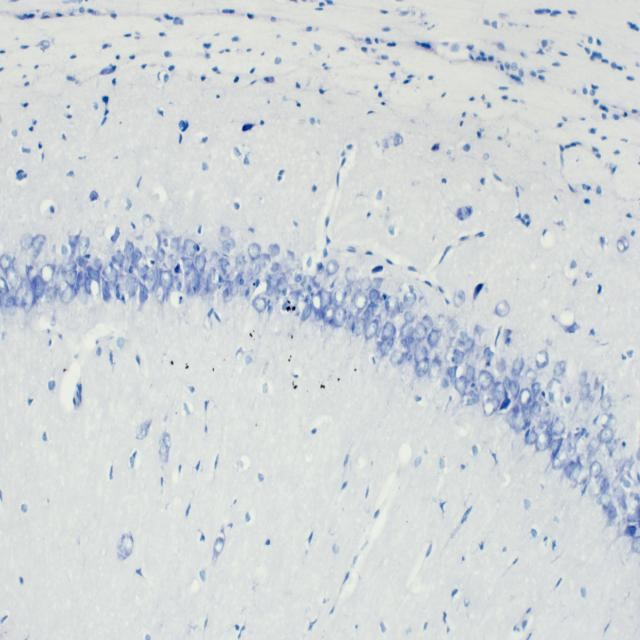neuron: (483, 389, 500, 417), (461, 386, 480, 407), (535, 430, 553, 451), (300, 275, 319, 294), (115, 274, 130, 296), (428, 357, 441, 382), (68, 233, 80, 260), (478, 370, 494, 390), (319, 288, 332, 312), (414, 321, 428, 343), (454, 375, 468, 397), (23, 289, 35, 314), (0, 252, 15, 272), (285, 290, 300, 310), (563, 438, 577, 459), (102, 264, 118, 282), (125, 276, 138, 298), (381, 322, 396, 341), (495, 299, 510, 318), (364, 319, 378, 339), (6, 267, 18, 290), (569, 462, 582, 483), (31, 233, 46, 251), (357, 277, 372, 295), (413, 346, 428, 364), (40, 264, 54, 283), (159, 270, 173, 289), (333, 307, 347, 326), (415, 358, 429, 377), (547, 438, 561, 457), (144, 270, 156, 292), (513, 410, 525, 432), (33, 274, 43, 300), (77, 236, 90, 256), (333, 288, 346, 308), (550, 419, 565, 436), (252, 296, 266, 314), (354, 292, 368, 310), (182, 257, 195, 276), (381, 336, 394, 355), (511, 357, 524, 376), (519, 388, 532, 407), (612, 488, 625, 507), (101, 280, 111, 304), (493, 381, 505, 401), (599, 427, 614, 443), (86, 265, 100, 282), (345, 266, 359, 283), (371, 299, 385, 316), (385, 295, 399, 312), (60, 286, 73, 304), (184, 238, 197, 256), (248, 242, 261, 260), (447, 318, 458, 339), (600, 487, 611, 508), (399, 323, 414, 338), (390, 349, 404, 365), (606, 437, 620, 453), (589, 461, 602, 478), (311, 293, 322, 313), (599, 476, 610, 496), (21, 232, 33, 250), (130, 249, 142, 267), (453, 290, 465, 308), (506, 404, 518, 422), (536, 350, 548, 368), (618, 518, 630, 536), (246, 279, 256, 300), (524, 430, 538, 445), (427, 329, 438, 348), (629, 492, 640, 511), (45, 286, 58, 302), (61, 259, 77, 272), (554, 360, 567, 376), (65, 270, 77, 287), (195, 254, 207, 271), (447, 364, 457, 384), (125, 240, 134, 262), (218, 257, 229, 275), (300, 303, 311, 321), (509, 380, 520, 398), (326, 259, 339, 274), (164, 254, 176, 270), (258, 253, 270, 269), (266, 273, 278, 289), (390, 302, 402, 318), (404, 291, 416, 307), (452, 348, 464, 364), (520, 404, 532, 420), (525, 369, 537, 385), (557, 451, 569, 467), (58, 278, 68, 297), (77, 271, 88, 288), (374, 341, 385, 358), (248, 260, 261, 274), (156, 283, 165, 303), (268, 243, 280, 258), (466, 365, 476, 383), (631, 535, 640, 555), (422, 314, 433, 330), (579, 383, 590, 399), (0, 276, 9, 295), (353, 317, 362, 336), (324, 307, 334, 324), (484, 346, 494, 363), (531, 382, 541, 399), (75, 255, 88, 268), (222, 238, 235, 251), (15, 286, 23, 307), (277, 277, 288, 292), (600, 396, 611, 411), (230, 278, 239, 296), (578, 370, 588, 386), (142, 215, 154, 228), (169, 237, 180, 251), (552, 456, 562, 471), (600, 413, 610, 428), (587, 436, 597, 451), (140, 284, 148, 302), (112, 254, 124, 266), (403, 351, 412, 367), (220, 225, 231, 238), (369, 289, 380, 302), (496, 359, 507, 372), (618, 500, 628, 514), (348, 312, 356, 329), (407, 337, 416, 352), (372, 277, 384, 288), (145, 244, 155, 257), (240, 272, 253, 282), (85, 277, 92, 295), (157, 248, 166, 262), (205, 274, 212, 292), (236, 254, 245, 268), (532, 400, 541, 414), (608, 414, 617, 428), (404, 311, 415, 322), (626, 512, 637, 523), (5, 296, 15, 308), (463, 338, 473, 350), (613, 461, 621, 476), (607, 507, 617, 519), (504, 376, 512, 390), (623, 459, 631, 473), (222, 288, 229, 303), (210, 266, 216, 283), (271, 262, 281, 272), (257, 292, 270, 299), (622, 479, 632, 488), (460, 330, 468, 340), (400, 338, 407, 349), (294, 273, 301, 283)
